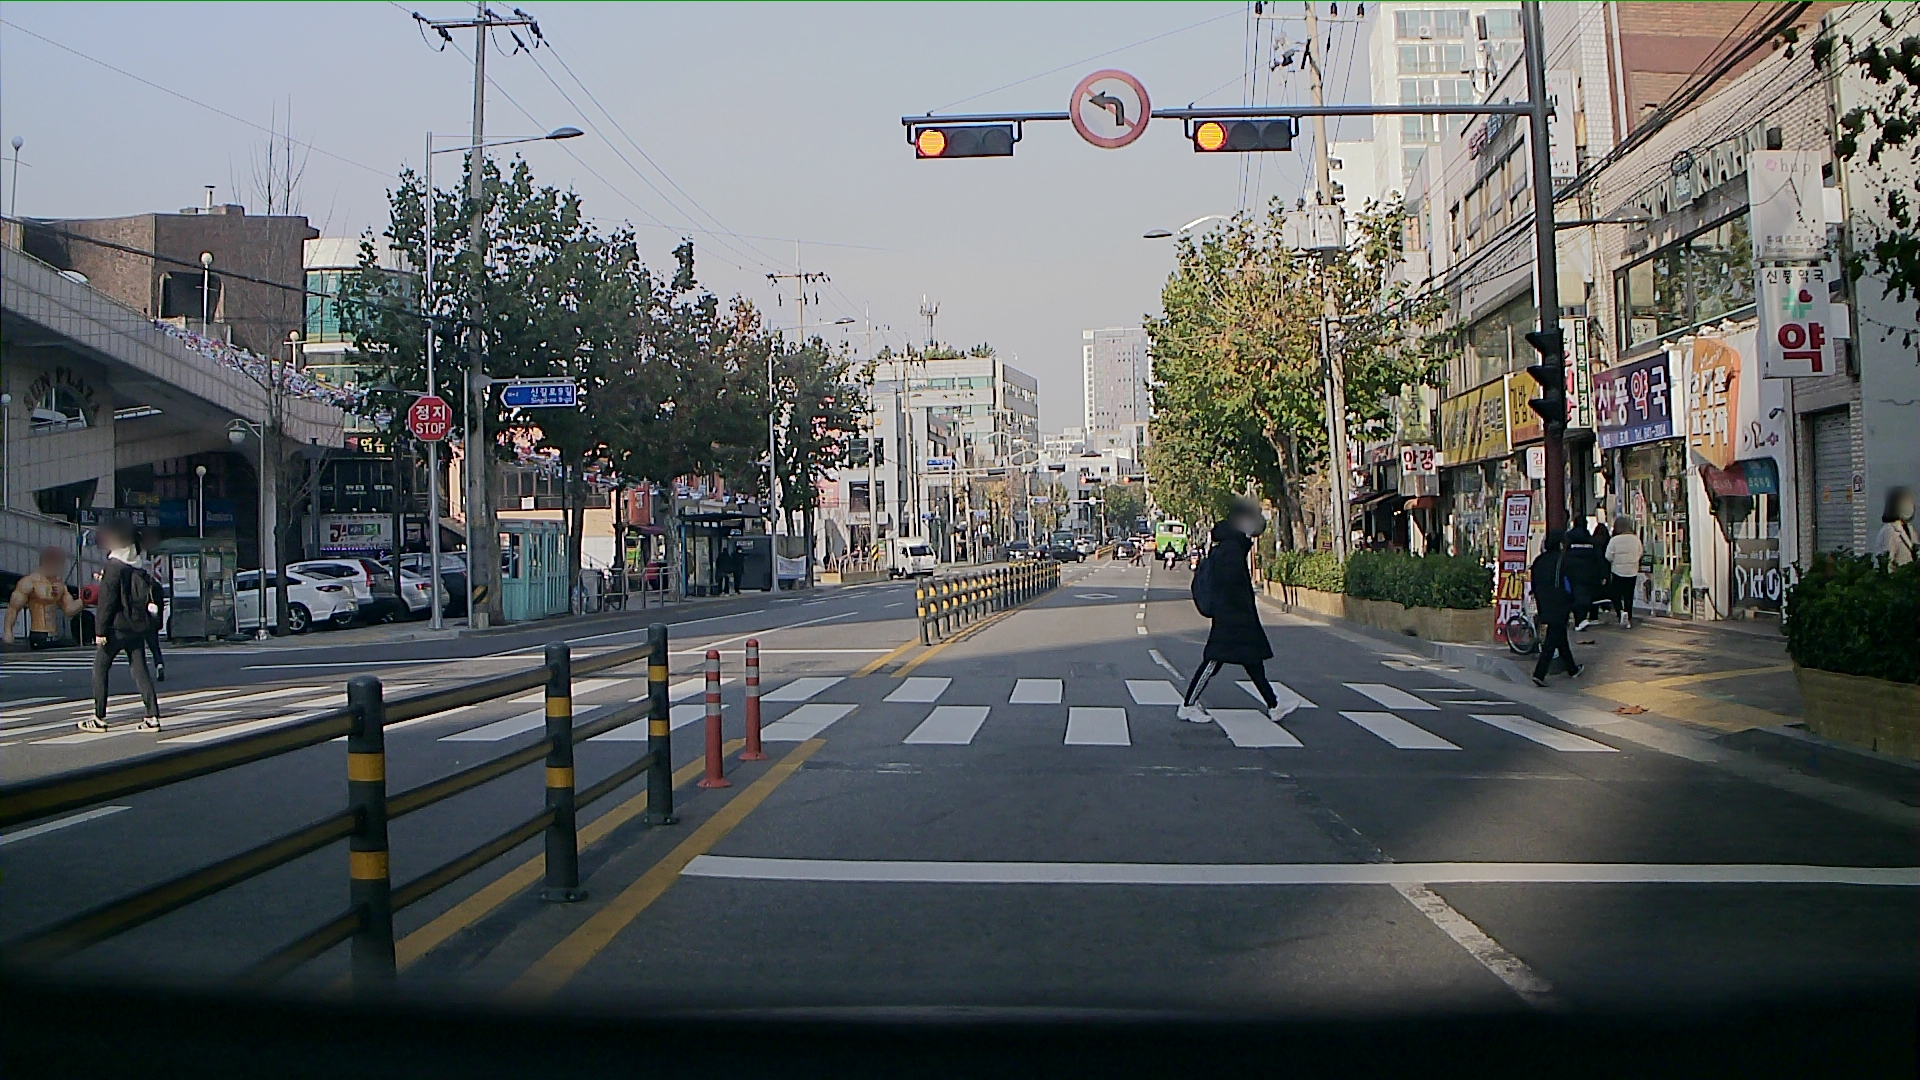trafficLight: (1195, 117, 1298, 152), (910, 129, 1011, 164)
trafficSignCircle: (1065, 69, 1155, 149), (404, 393, 454, 440)
